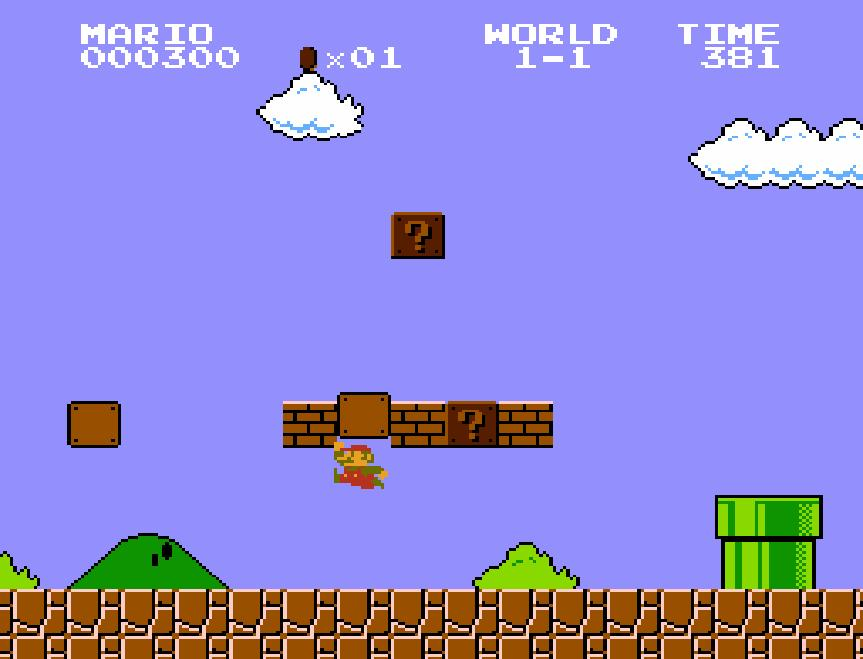little_mario: (332, 440, 390, 490)
